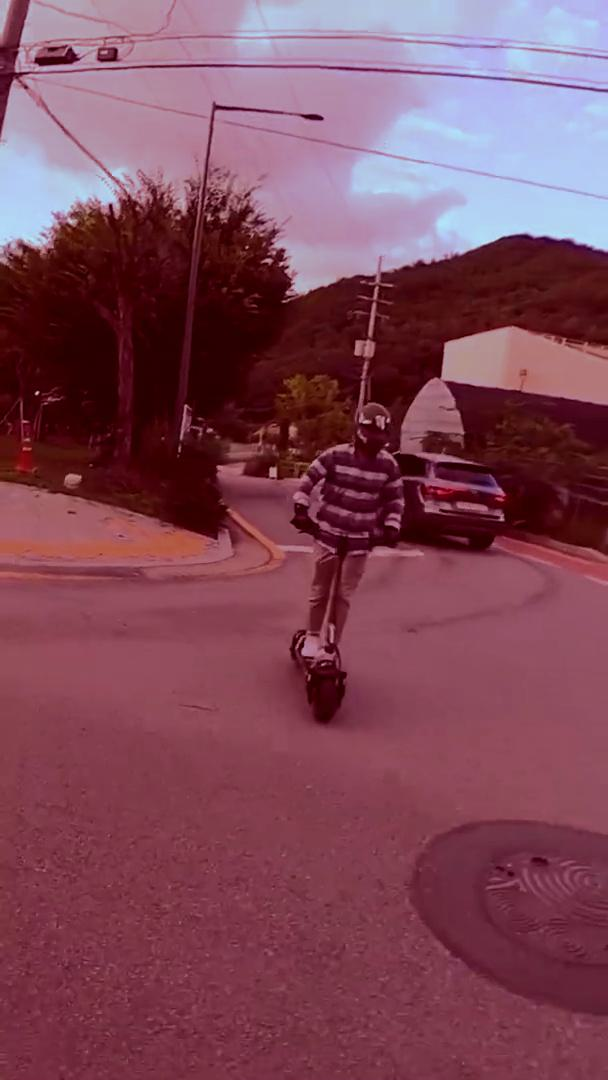helmet: (284, 398, 409, 724)
